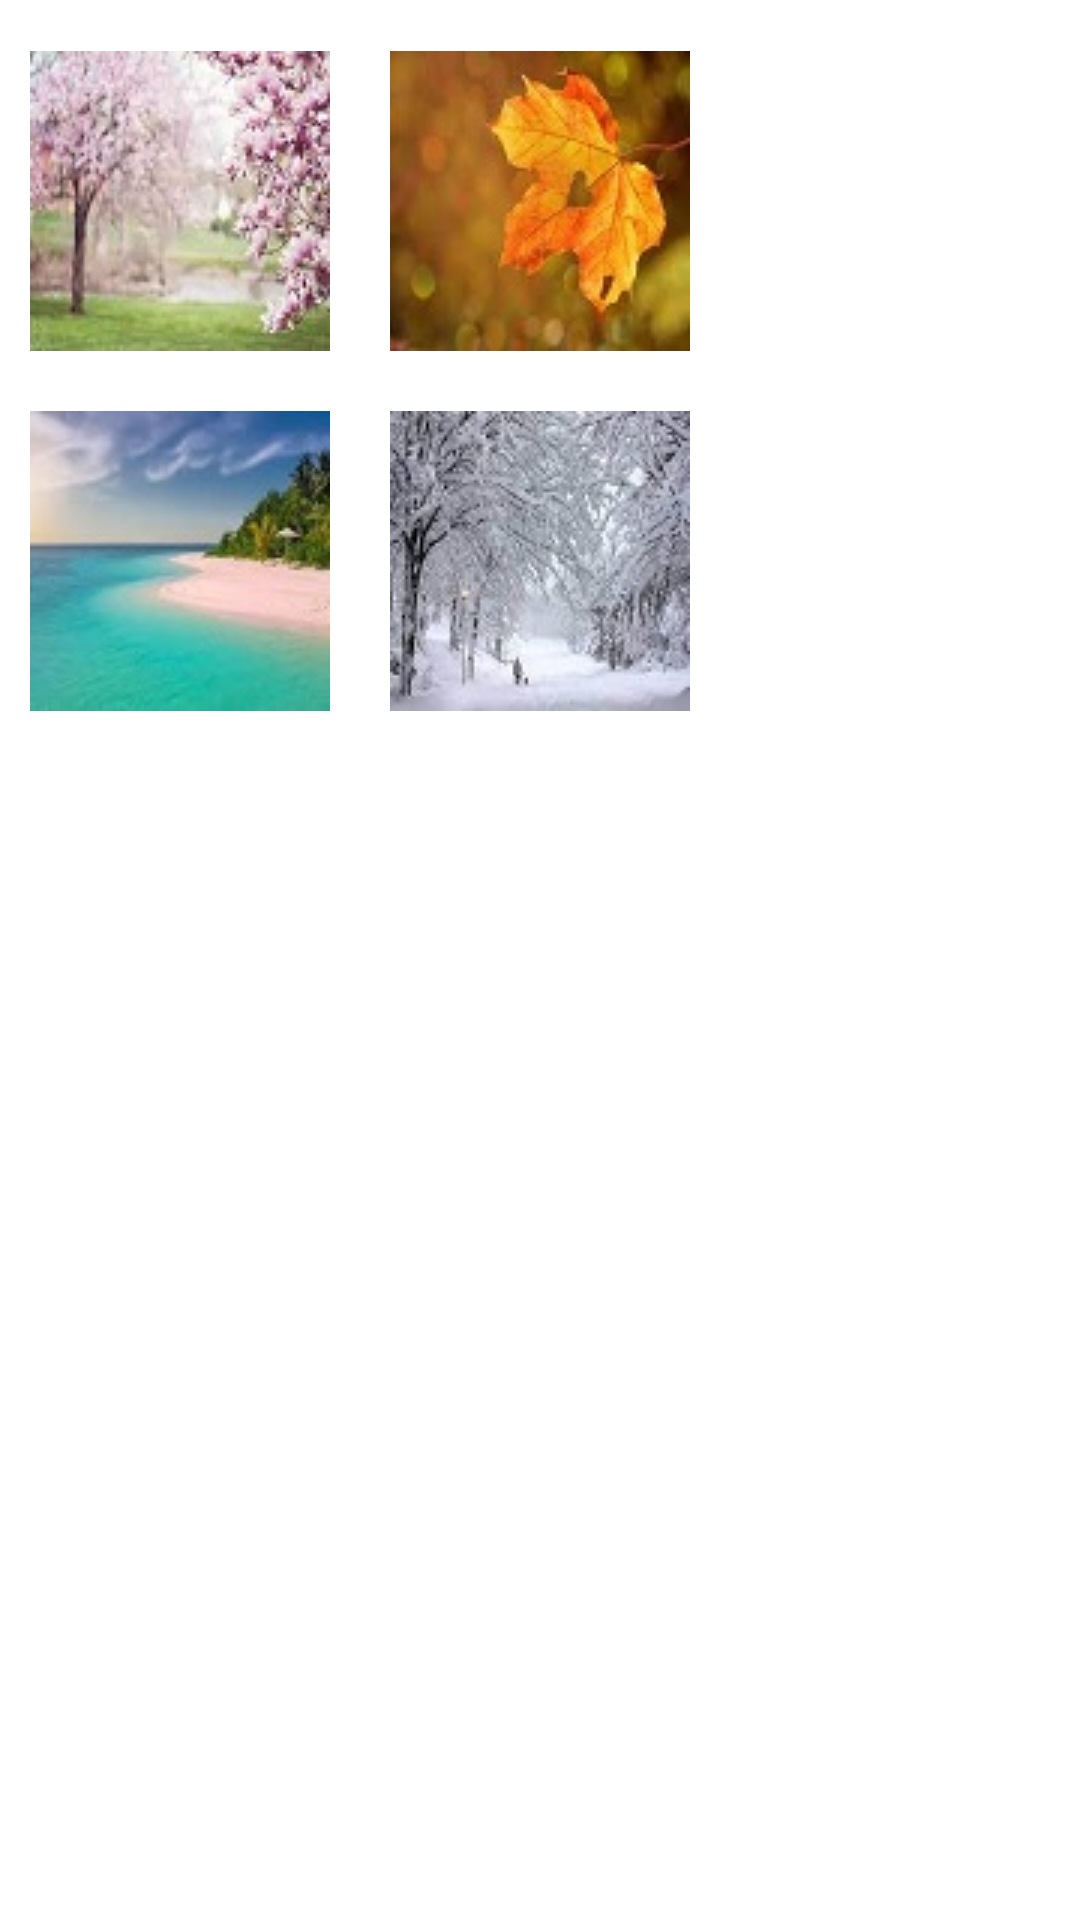

Named icons in this screenshot (1080*1920) and their bounding boxes, (x1, y1, x2, y2):
aut: (390, 51, 690, 351)
hiv: (390, 411, 690, 711)
